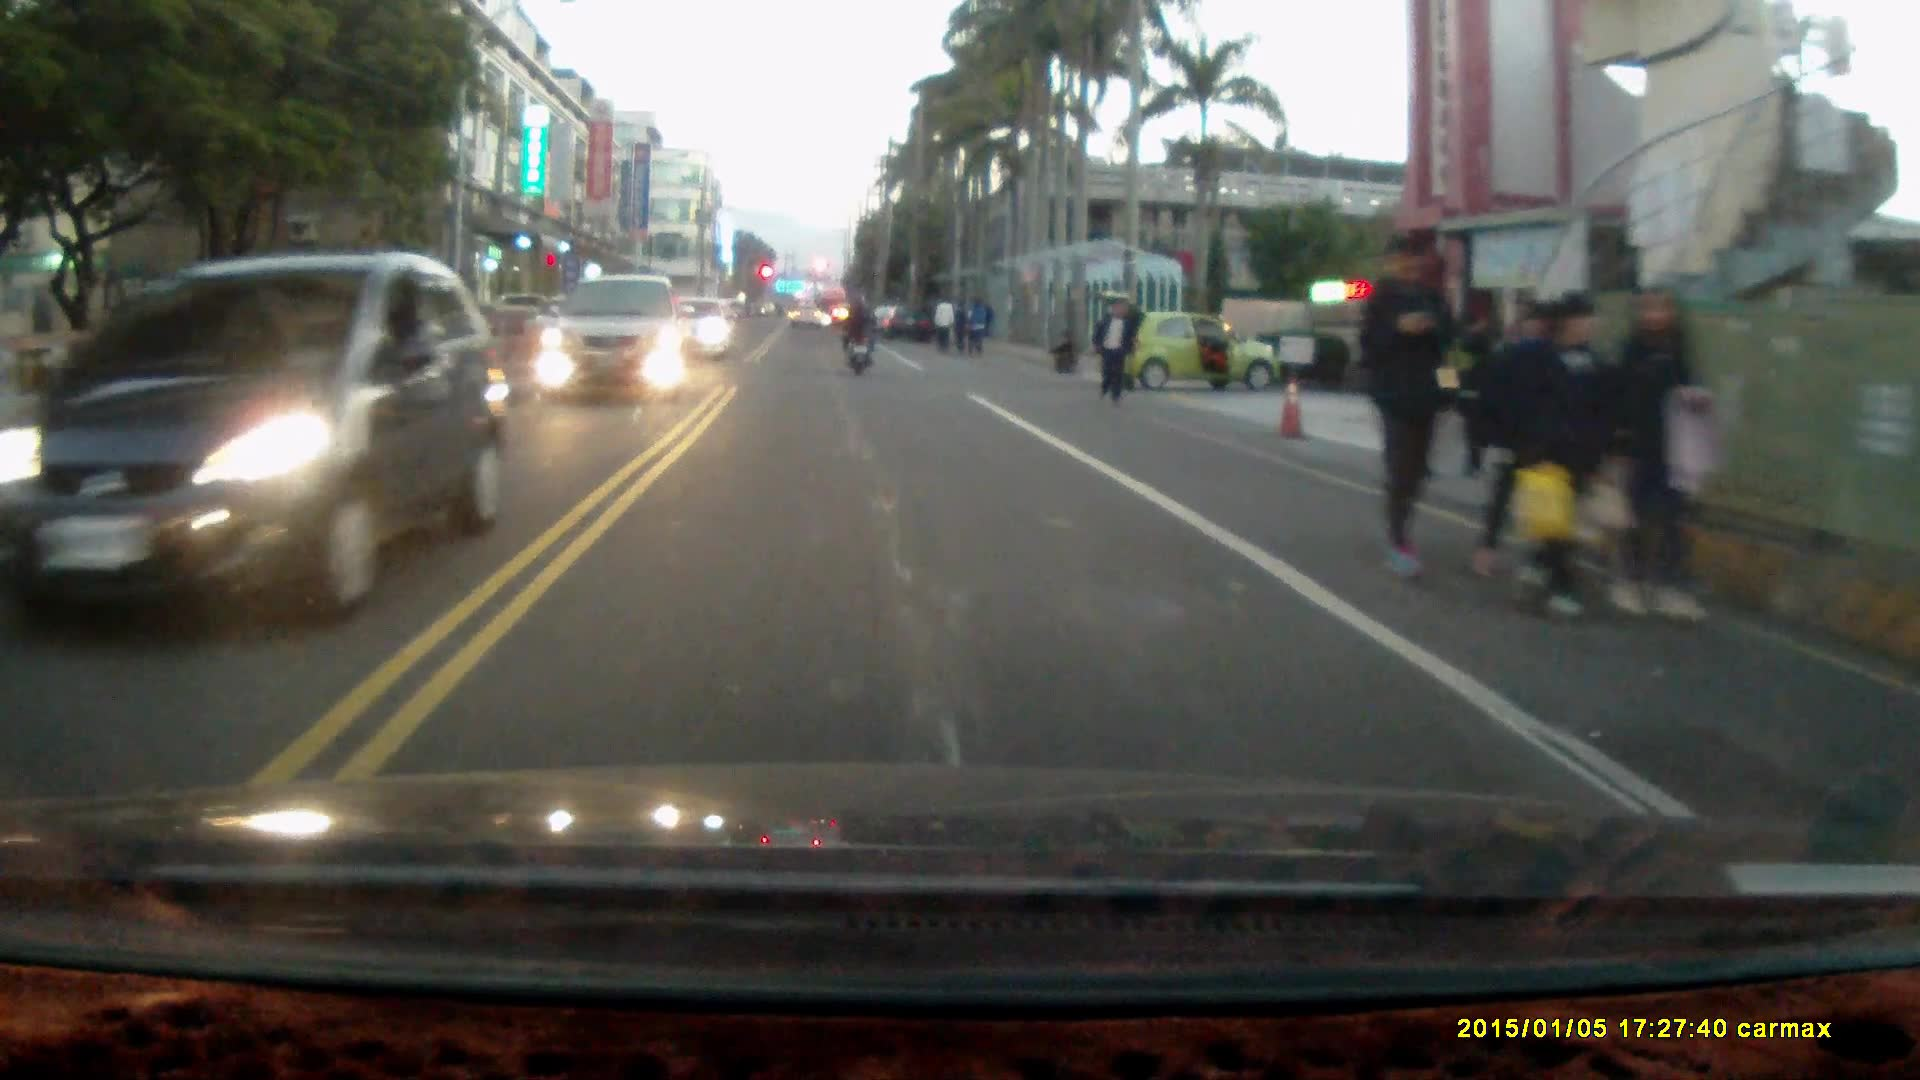pedestrian: (1497, 283, 1616, 622), (1354, 232, 1459, 582), (1605, 283, 1711, 624), (1456, 306, 1499, 482), (1087, 295, 1132, 408), (1046, 323, 1079, 375), (962, 291, 988, 354), (933, 288, 955, 353)
rider: (837, 291, 877, 375)
vehicle: (7, 247, 522, 620), (540, 273, 693, 396), (1096, 292, 1277, 393), (653, 294, 740, 359)
